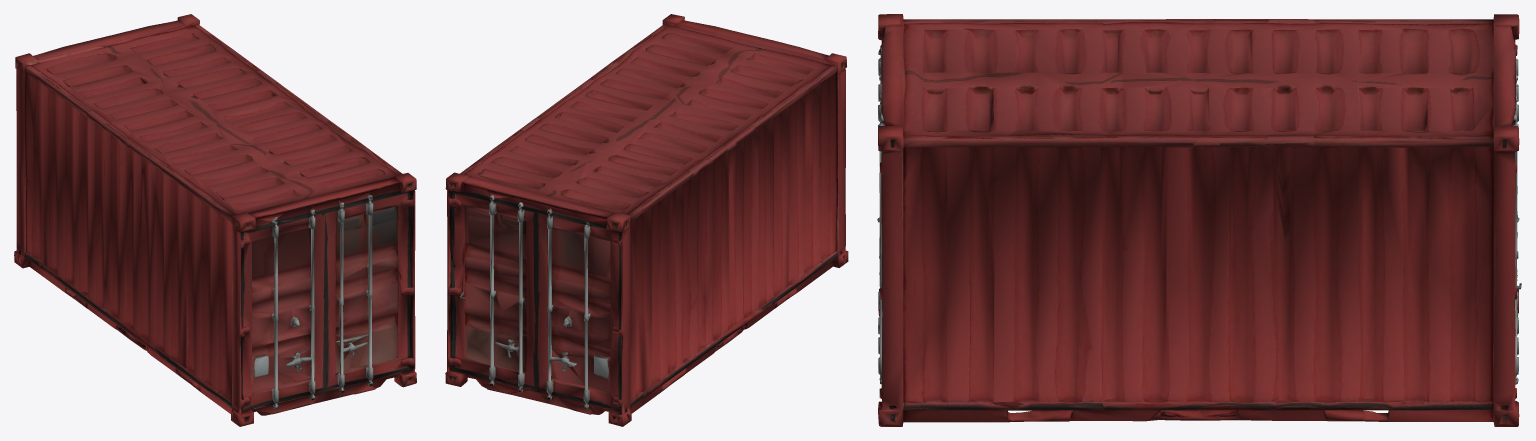
Rendered from container.glb.
3 renders of one model, left to right at view 1: azimuth 30°, elevation 25°; view 2: azimuth 150°, elevation 25°; view 3: azimuth 270°, elevation 25°, orthographic. The views are drawn at different scales.
Visible parts, largest first — view 1: tripo_node_64ab02dd-8137-4b7d-b901-ad04425aff97; view 2: tripo_node_64ab02dd-8137-4b7d-b901-ad04425aff97; view 3: tripo_node_64ab02dd-8137-4b7d-b901-ad04425aff97.
Boxes of the visible parts, box(x1,y1,x2,y2) form: tripo_node_64ab02dd-8137-4b7d-b901-ad04425aff97: box(14, 14, 416, 426); tripo_node_64ab02dd-8137-4b7d-b901-ad04425aff97: box(445, 14, 848, 426); tripo_node_64ab02dd-8137-4b7d-b901-ad04425aff97: box(877, 14, 1521, 426).
Size of the model in its own units: 0.9052 by 1 by 1.98.
1 material, 1 textured.
